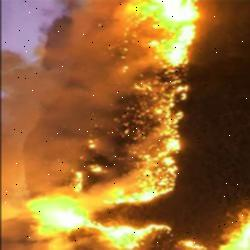fire: (28, 0, 221, 242)
